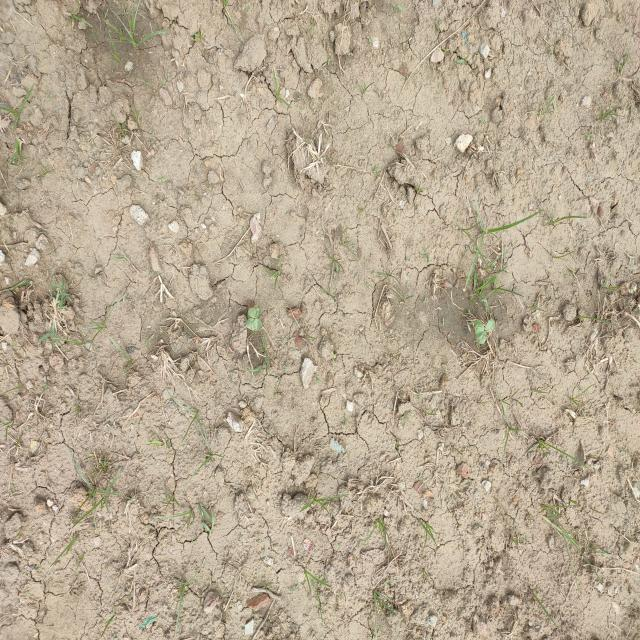seedling: (475, 321, 487, 344), (246, 318, 262, 331), (248, 308, 261, 318), (485, 319, 495, 332)
